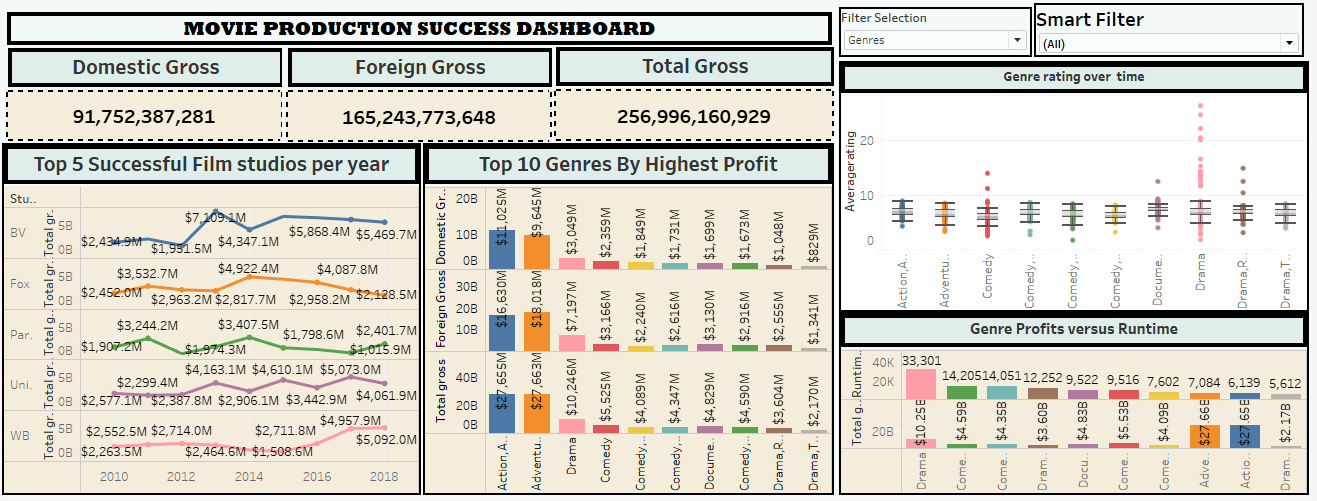

What the dashboard file says about the page in this screenshot:
{"tool":"tableau","page":{"name":"Dashboard 1","canvas":[1000,1000],"units":"permille","ordinal":0},"visuals":[{"type":"filter","title":"Foreign Gross","param":"[federated.1x8ye8m1mhyc2j15spx4c1nw9pon].[none:Calculation_518758425933746178:nk","box":[787.9,5.4,206.1,108.7]},{"type":"parameter","param":"[Parameters].[Parameter 1]","box":[639,14.5,147.2,99.6]},{"type":"text","box":[4.3,23.6,629.4,67]},{"type":"worksheet","title":"Total Gross","mark":"Automatic","box":[421.7,94.2,213.8,188.4]},{"type":"worksheet","title":"Domestic Gross","mark":"Automatic","box":[3.5,96,211.3,186.6]},{"type":"worksheet","title":"Foreign Gross","mark":"Automatic","box":[217.3,96,202.6,188.4]},{"type":"worksheet","title":"Genre rating over  time","mark":"Circle","rows":["averagerating"],"cols":["genres"],"box":[639,123.2,358.4,503.6]},{"type":"worksheet","title":"Top 5 Successful Film studios per year","mark":"Automatic","rows":["studio","Calculation_518758425906782208"],"cols":["year"],"box":[0.9,288,319.5,706.5]},{"type":"worksheet","title":"Top 10 Genres By Highest Profit","mark":"Automatic","rows":["domestic_gross","foreign_gross","Calculation_518758425906782208"],"cols":["genres"],"box":[322.1,288,313.4,706.5]},{"type":"worksheet","title":"Genre Profits versus Runtime","mark":"Automatic","rows":["runtime_minutes","Calculation_518758425906782208"],"cols":["genres"],"box":[639,626.8,358.4,367.8]}]}

Visuals, with their boxes on the dashboard's canvas, which has no fixed pixel size, in thousandths of its width and height (x1, y1, x2, y2). These are canvas units, not pixel positions in the 1317x501 screenshot, which may show the page scaled, cropped or inside an application window:
"Foreign Gross" filter: [x1=788, y1=5, x2=994, y2=114]
parameter: [x1=639, y1=14, x2=786, y2=114]
text: [x1=4, y1=24, x2=634, y2=91]
"Total Gross" worksheet: [x1=422, y1=94, x2=636, y2=283]
"Domestic Gross" worksheet: [x1=4, y1=96, x2=215, y2=283]
"Foreign Gross" worksheet: [x1=217, y1=96, x2=420, y2=284]
"Genre rating over  time" worksheet (Circle marks): [x1=639, y1=123, x2=997, y2=627]
"Top 5 Successful Film studios per year" worksheet: [x1=1, y1=288, x2=320, y2=994]
"Top 10 Genres By Highest Profit" worksheet: [x1=322, y1=288, x2=636, y2=994]
"Genre Profits versus Runtime" worksheet: [x1=639, y1=627, x2=997, y2=995]
